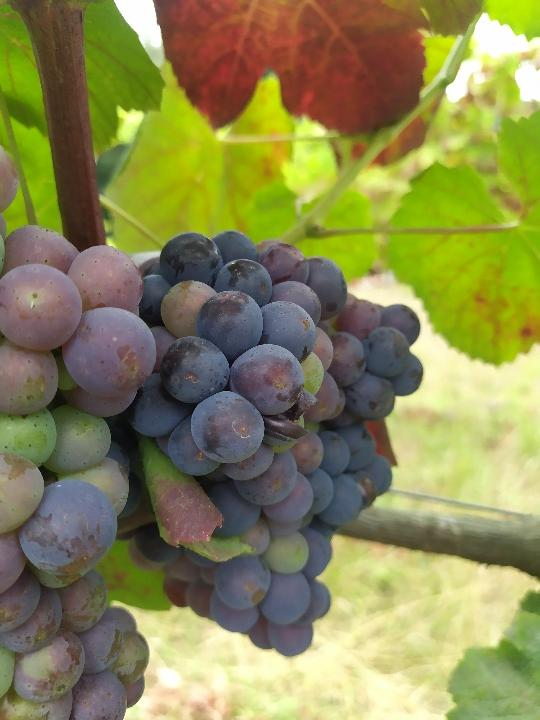grape: (89, 224, 427, 662)
